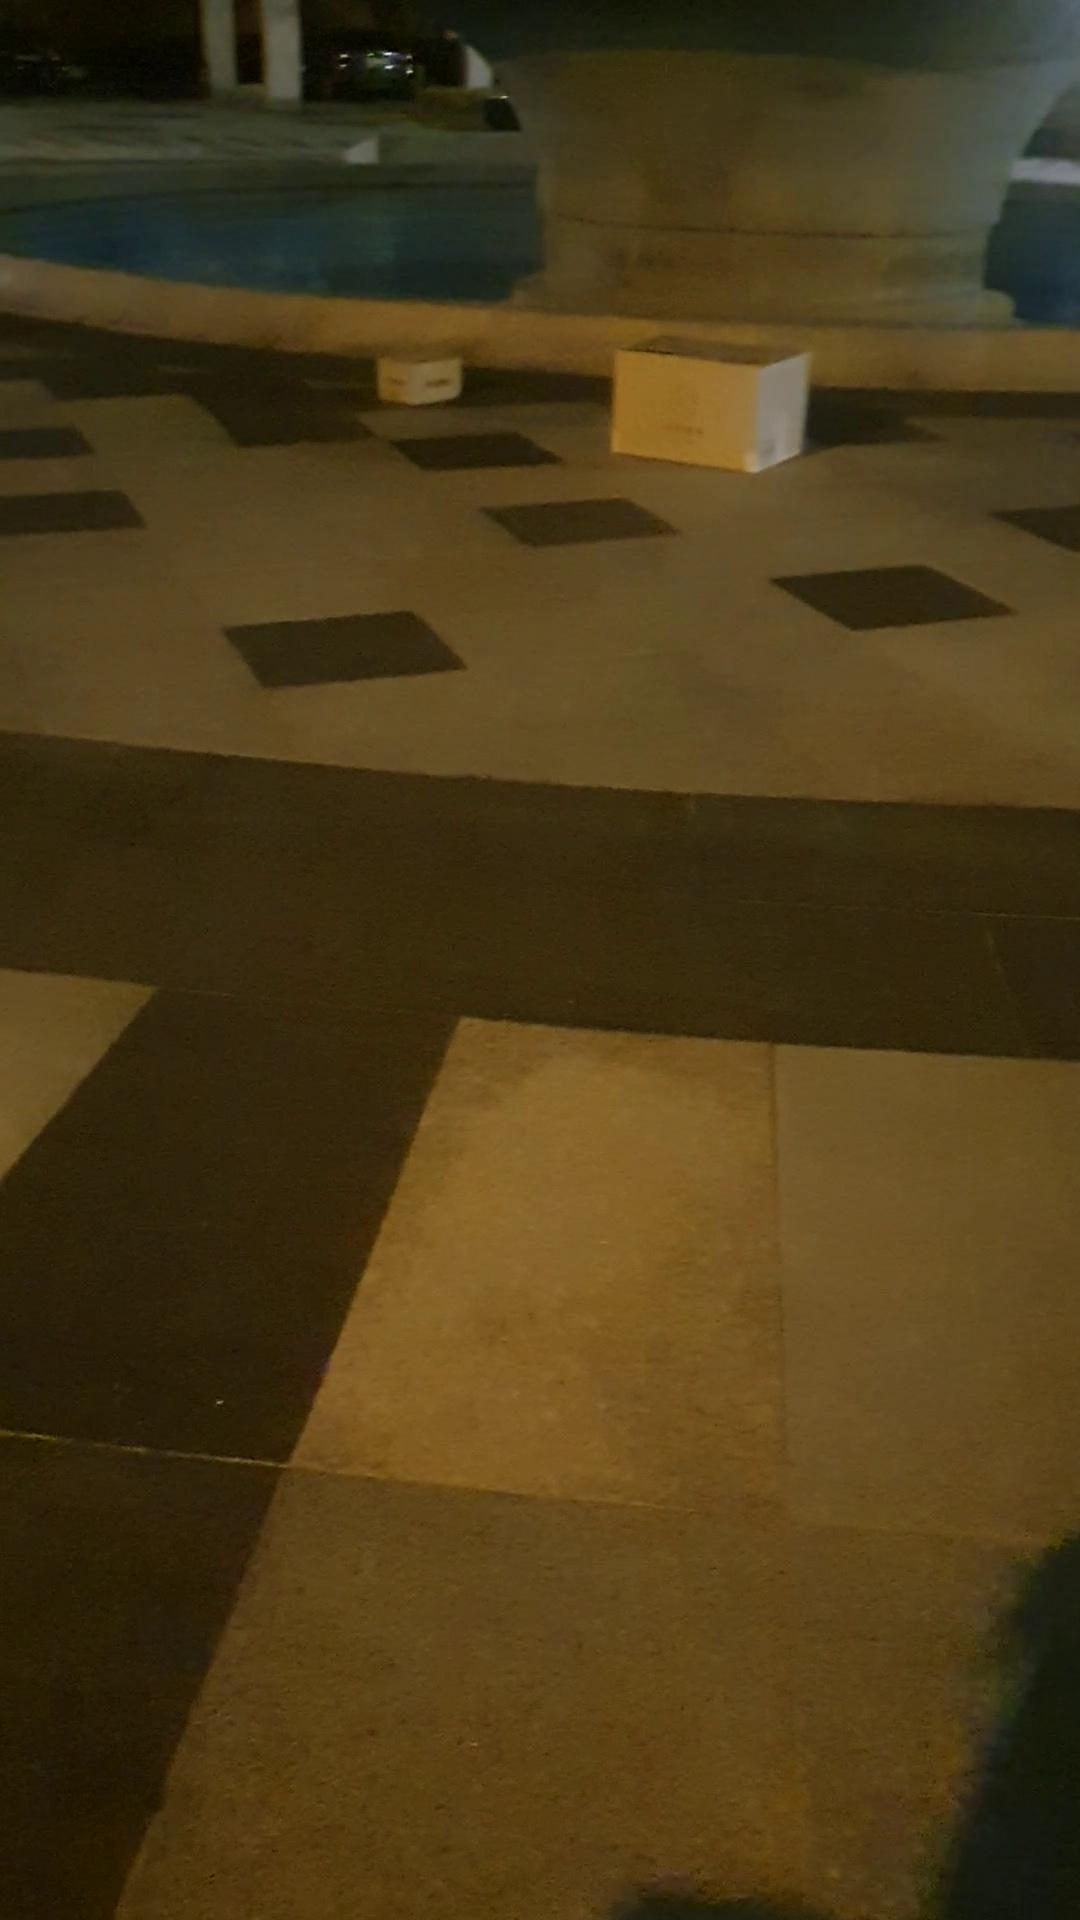Box: (593, 330, 804, 477), (361, 343, 460, 419)
